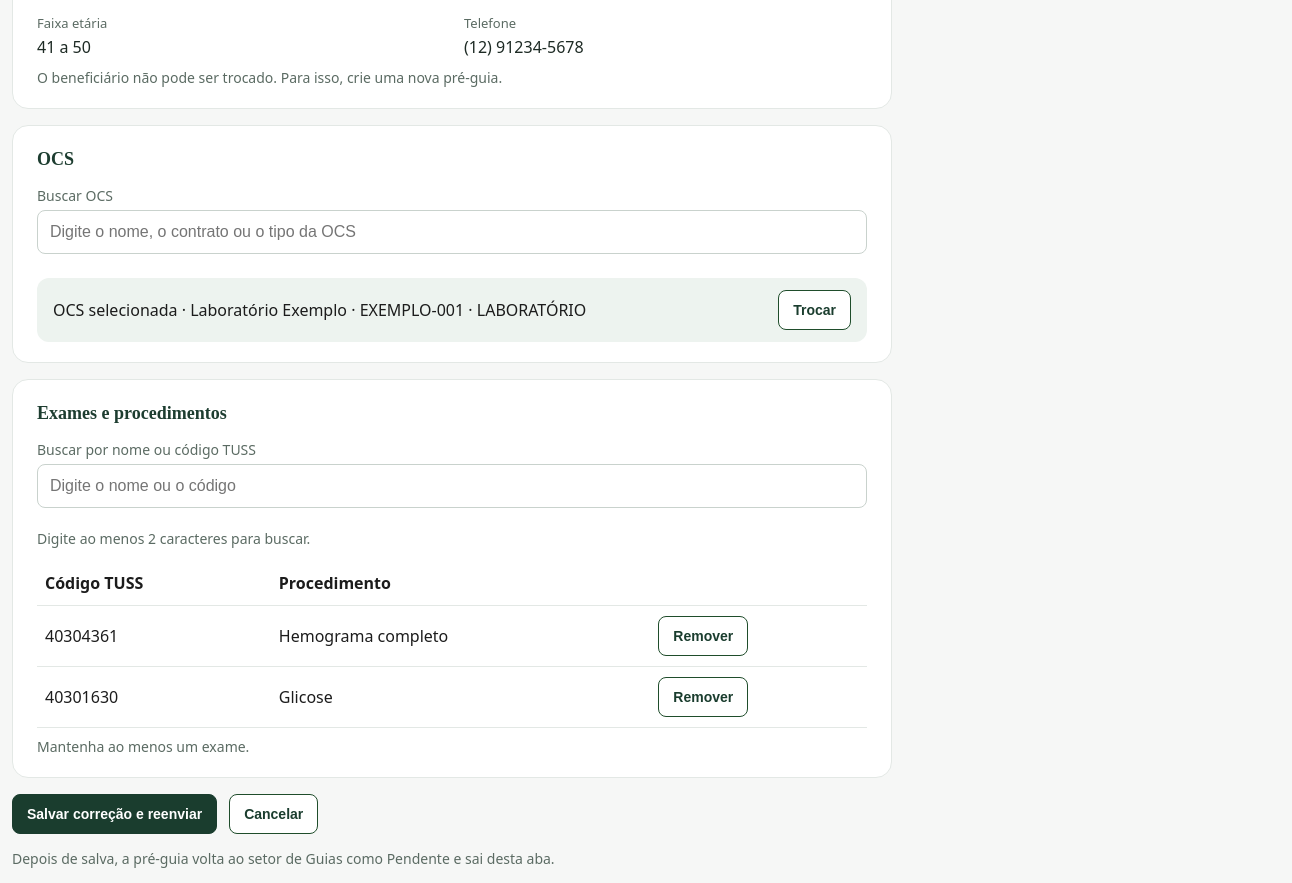
Test case: CorrigirPreGuiaPage › não permite remover o último exame
(page scrolled)
What coordinates should you click on to do the following:
click the button "Remover" in the row of "40301630"
I would click on:
 (703, 697)
Its box is [658,677,748,717].
(page scrolled)
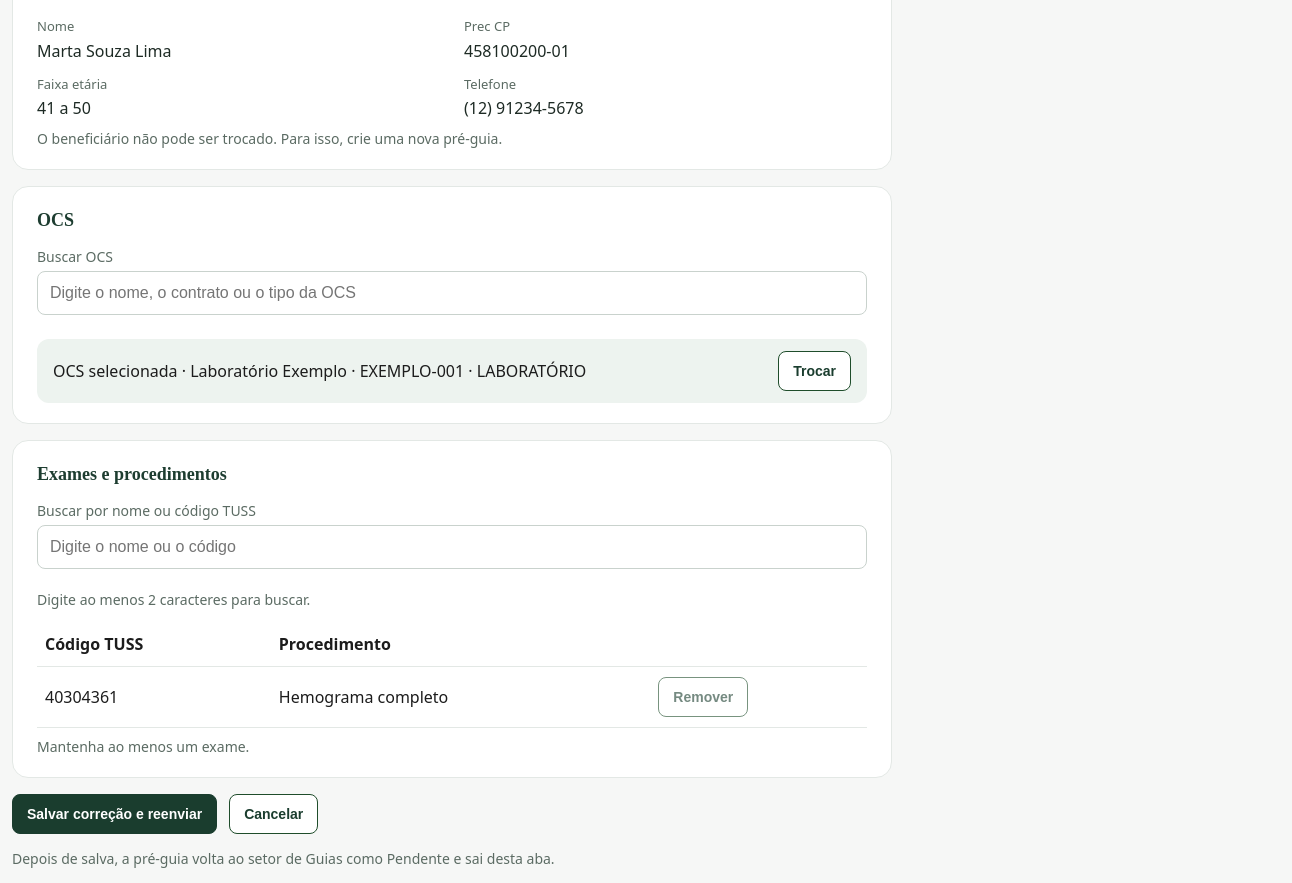
Now the button "Remover" is disabled, box [658,677,748,717]
